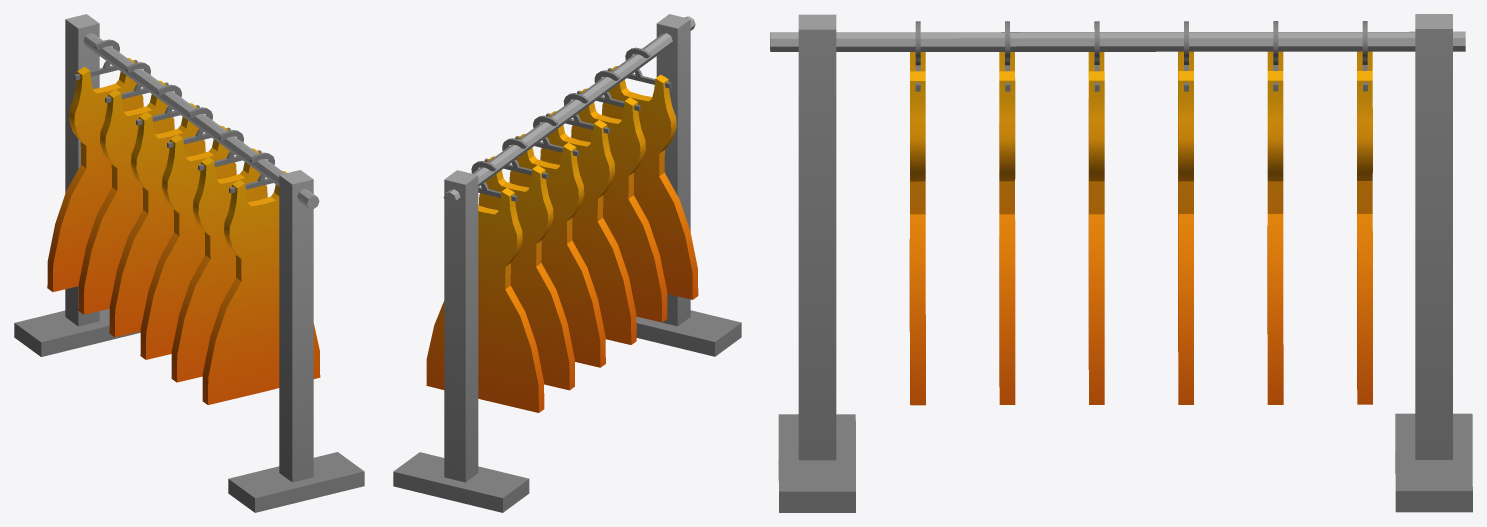
Rendered from cloth stand orange.fbx.
3 renders of one model, left to right at view 1: azimuth 30°, elevation 25°; view 2: azimuth 150°, elevation 25°; view 3: azimuth 270°, elevation 25°, orthographic. The views are drawn at different scales.
Visible parts, largest first — view 1: cloth_stand_orange; view 2: cloth_stand_orange; view 3: cloth_stand_orange.
Boxes of the visible parts, x1,y1,x2,y2 form: cloth_stand_orange: (14, 14, 364, 512); cloth_stand_orange: (393, 14, 741, 512); cloth_stand_orange: (770, 14, 1472, 512).
Bounding box in the file's own units: 106 × 281 × 396.
Materials: 1 (1 with a texture image).
